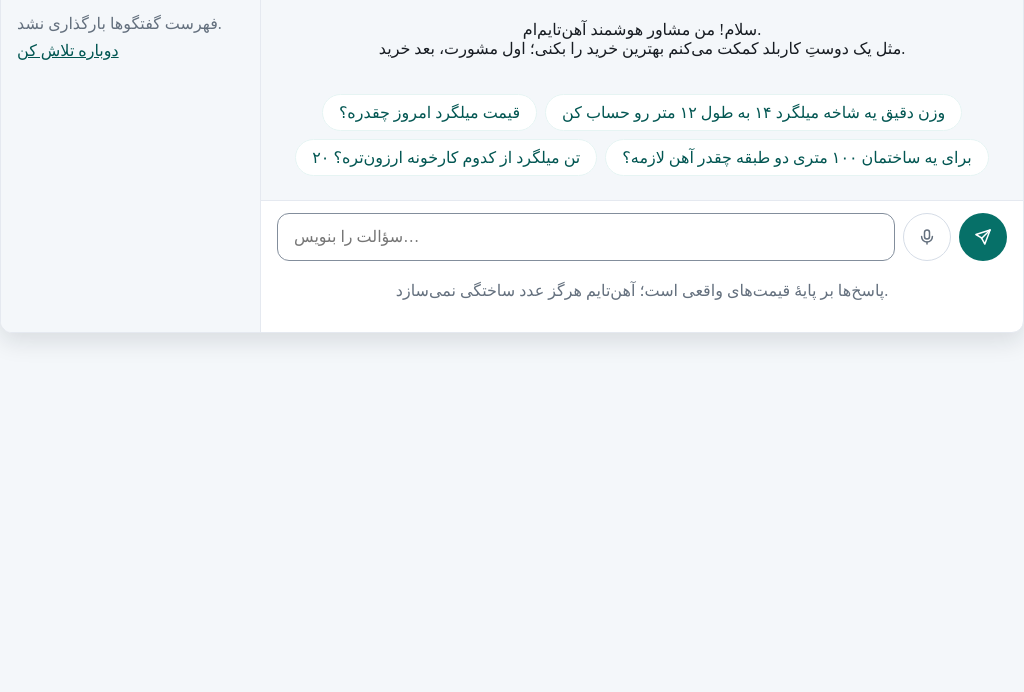
it: AdvisorChat — one register in the UI copy › keeps تو through an answer, its confirmation card and the feedback row
Type "پیش‌فاکتور می‌خوام" into the text box named "پیام به مشاور هوشمند" at [586, 237], box 277,213 -> 895,261
Then press Enter
(page scrolled)
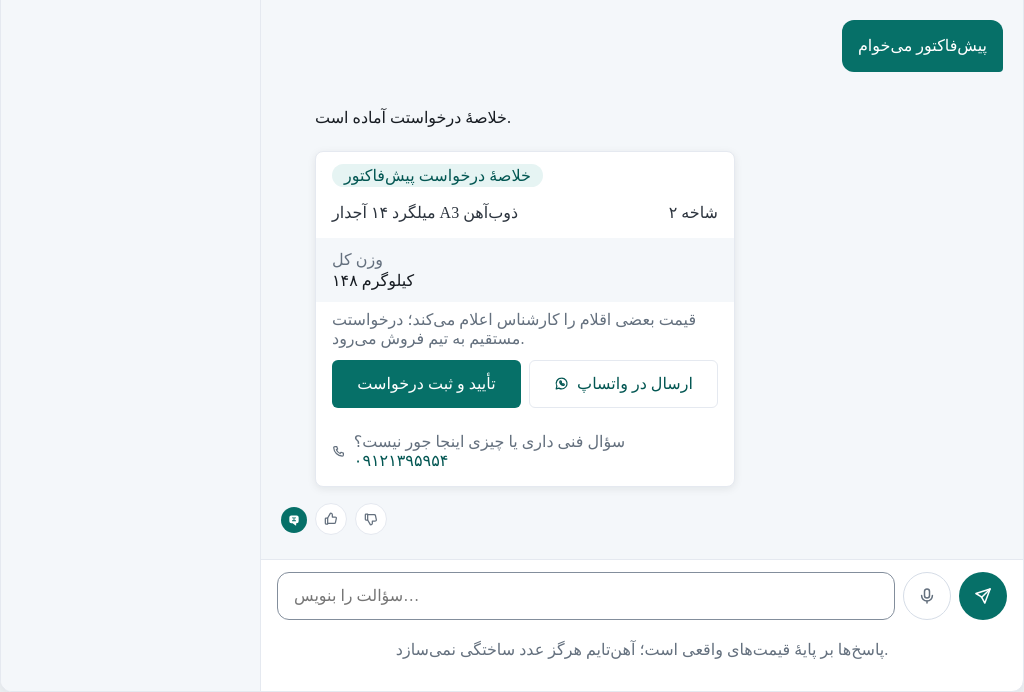
Expected: the text "درخواستت مستقیم به تیم فروش می‌رود" is shown, 332,311 -> 696,347
Click the button named "پاسخ مفید بود" at [331, 519], box 315,503 -> 347,535
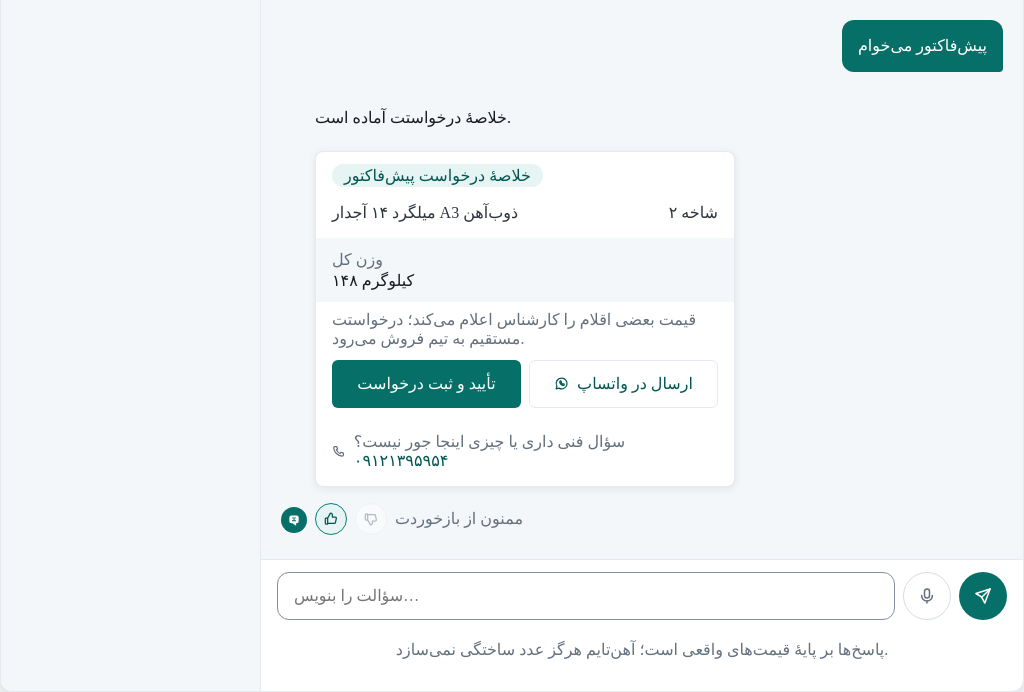
Expected: the text "ممنون از بازخوردت" is shown, 395,509 -> 523,528
